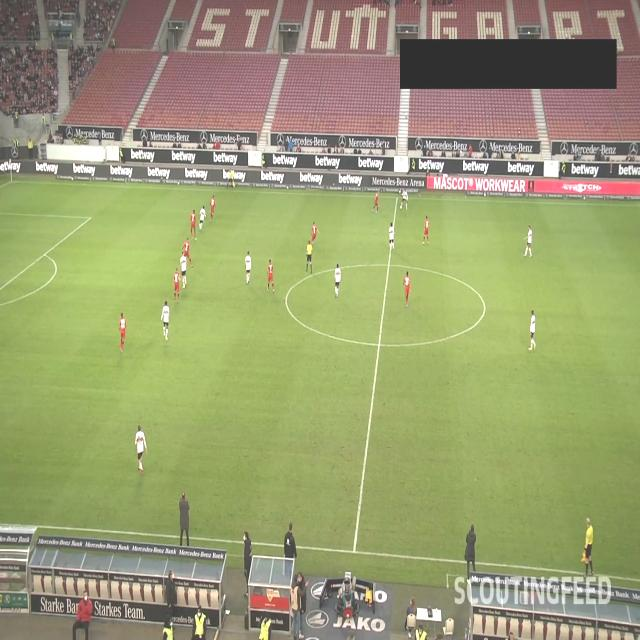ball: (399, 204, 403, 211)
f_player: (134, 425, 148, 477), (526, 312, 536, 351), (522, 226, 534, 258), (161, 302, 171, 338), (402, 274, 412, 310), (180, 252, 190, 288), (266, 260, 276, 291), (120, 314, 128, 352), (183, 236, 193, 266), (334, 264, 342, 298), (244, 252, 252, 286), (190, 209, 198, 241), (421, 217, 430, 245), (387, 222, 395, 250), (200, 204, 208, 232), (400, 189, 410, 211), (174, 268, 180, 302), (373, 191, 381, 213), (210, 195, 216, 221), (312, 224, 318, 248)
umpire: (584, 518, 596, 582), (306, 238, 314, 271), (227, 167, 235, 189)
